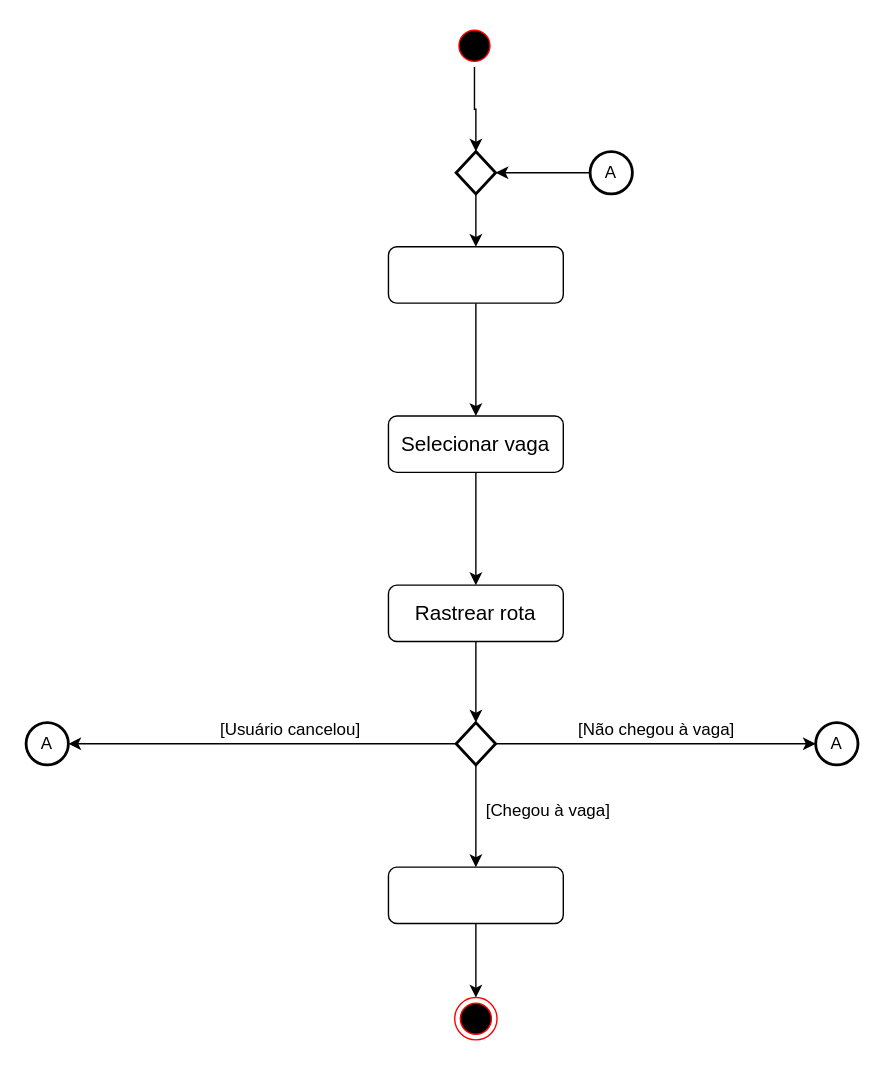
The diagram is 883 pixels wide and 1065 high, and some of its shapes have lost their labels. Each missing label, with the centre of its shape:
Gerenciar vaga: the point at 475,895
Selecionar estacionamento: the point at 475,274
